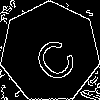C: (24, 27, 81, 86)
